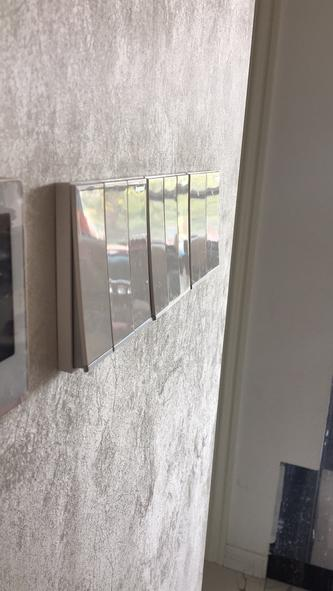switch: (69, 185, 111, 371), (103, 179, 139, 344), (126, 179, 156, 329), (147, 176, 174, 316), (174, 174, 195, 292), (191, 173, 206, 286), (207, 172, 224, 271)
